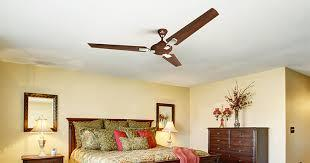bed: (67, 114, 220, 163)
fan: (70, 11, 231, 68)
light: (31, 113, 52, 159), (161, 117, 178, 148)
table: (206, 125, 272, 163), (19, 150, 67, 163)
